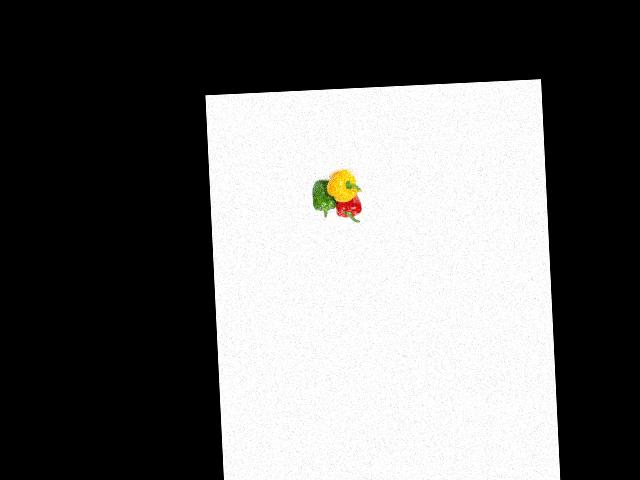bell_pepper: (331, 190, 366, 227)
